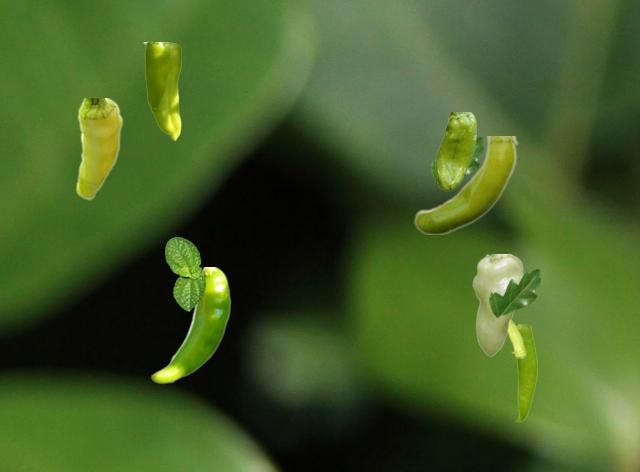green_chili: (413, 136, 517, 233), (150, 267, 230, 383), (472, 254, 523, 355), (75, 98, 122, 199), (143, 42, 180, 139), (435, 112, 475, 190), (513, 324, 536, 421), (508, 320, 525, 357)
